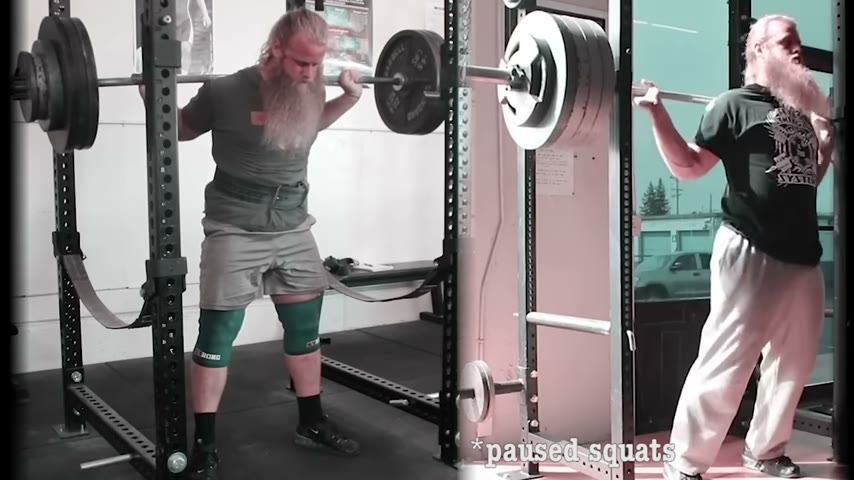barbell_plate_side: (2, 6, 104, 157), (501, 2, 565, 158)
